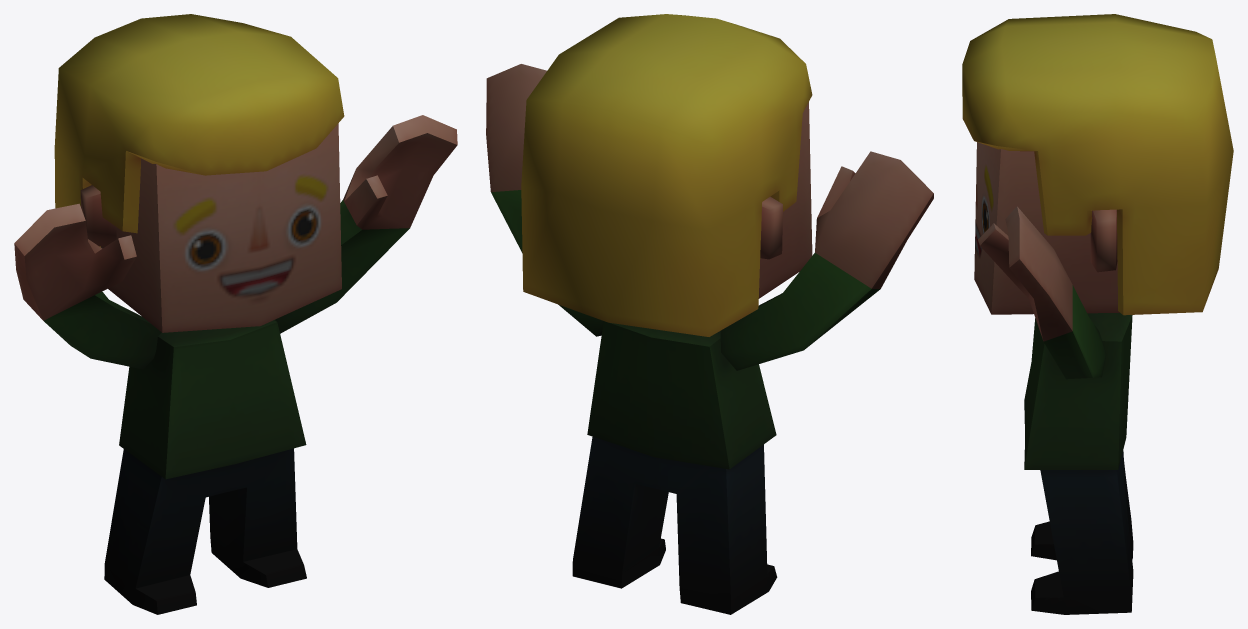
The model's file is Crowd_Var1_FINAL.FBX.
The picture shows the model from 3 angles, left to right: view 1: azimuth 30°, elevation 25°; view 2: azimuth 150°, elevation 25°; view 3: azimuth 270°, elevation 25°; orthographic projection.
Visible parts, largest first — view 1: Crowd_Var1_FINAL; view 2: Crowd_Var1_FINAL; view 3: Crowd_Var1_FINAL.
Boxes of the visible parts, x1,y1,x2,y2 form: Crowd_Var1_FINAL: [14, 14, 457, 614]; Crowd_Var1_FINAL: [486, 14, 933, 614]; Crowd_Var1_FINAL: [962, 14, 1233, 614].
Size of the model in its own units: 1.94 by 2.2 by 1.02.
